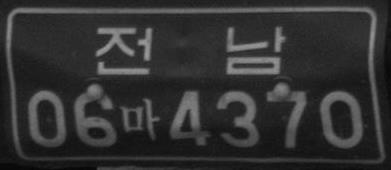0: (317, 89, 363, 149), (26, 88, 67, 149)
3: (215, 89, 260, 148)
4: (168, 90, 211, 147)
6: (72, 90, 118, 148)
7: (264, 89, 308, 148)
마: (119, 97, 160, 141)
전남_D: (95, 23, 287, 77)
